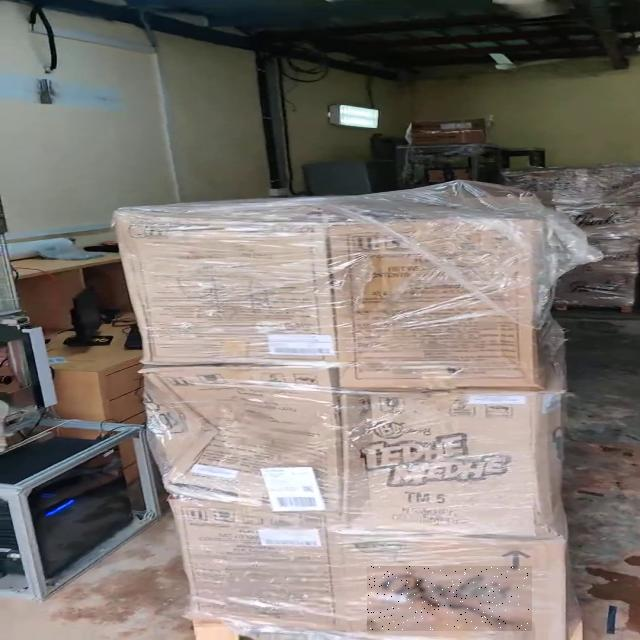tear: (368, 566, 531, 630)
